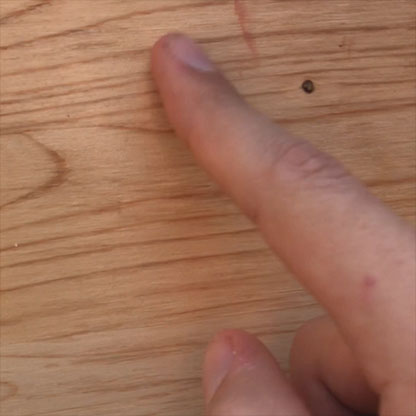fingertip: (146, 17, 230, 93)
